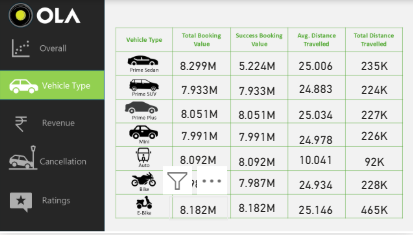

The page's visual inventory and layout, read from the dashboard file:
{"tool":"powerbi","page":{"name":"Vehicle Type","canvas":[1280,720],"ordinal":1},"visuals":[{"type":"actionButton","box":[0,104.4,324,93.7],"z":0},{"type":"actionButton","box":[1.2,347.5,324.5,92.9],"z":1000},{"type":"actionButton","box":[0,574.3,324.5,92.9],"z":2000},{"type":"actionButton","box":[0,450,324.5,92.9],"z":3000},{"type":"card","fields":{"Values":["Sum(Bookings-100000-Rows (1).Booking_Value)"]},"box":[526,160,180,76],"z":4000},{"type":"card","fields":{"Values":["Sum(Bookings-100000-Rows (1).Booking_Value)"]},"box":[526.7,236.7,180,76.7],"z":5000},{"type":"card","fields":{"Values":["Sum(Bookings-100000-Rows (1).Booking_Value)"]},"box":[526.7,306.7,180,76.7],"z":6000},{"type":"card","fields":{"Values":["Sum(Bookings-100000-Rows (1).Booking_Value)"]},"box":[526.7,383.3,180,66.7],"z":7000},{"type":"card","fields":{"Values":["Sum(Bookings-100000-Rows (1).Booking_Value)"]},"box":[526,450,180,76],"z":8000},{"type":"card","fields":{"Values":["Sum(Bookings-100000-Rows (1).Booking_Value)"]},"box":[526,526,180,78],"z":9000},{"type":"card","fields":{"Values":["Sum(Bookings-100000-Rows (1).Booking_Value)"]},"box":[526,604,180,76],"z":10000},{"type":"card","fields":{"Values":["Sum(Bookings-100000-Rows (1).Booking_Value)"]},"box":[706,160,180,76],"z":11000},{"type":"card","fields":{"Values":["Sum(Bookings-100000-Rows (1).Booking_Value)"]},"box":[706,238,180,76],"z":12000},{"type":"card","fields":{"Values":["Sum(Bookings-100000-Rows (1).Booking_Value)"]},"box":[706,312,180,76],"z":13000},{"type":"card","fields":{"Values":["Sum(Bookings-100000-Rows (1).Booking_Value)"]},"box":[706,382,180,76],"z":14000},{"type":"card","fields":{"Values":["Sum(Bookings-100000-Rows (1).Booking_Value)"]},"box":[706,458,180,76],"z":15000},{"type":"card","fields":{"Values":["Sum(Bookings-100000-Rows (1).Booking_Value)"]},"box":[706,526,180,76],"z":16000},{"type":"card","fields":{"Values":["Sum(Bookings-100000-Rows (1).Booking_Value)"]},"box":[706,602,180,76],"z":17000},{"type":"card","fields":{"Values":["Avg(Bookings-100000-Rows (1).Ride_Distance)"]},"box":[886.7,605,180,76.7],"z":18000},{"type":"card","fields":{"Values":["Avg(Bookings-100000-Rows (1).Ride_Distance)"]},"box":[886.7,528.3,180,76.7],"z":19000},{"type":"card","fields":{"Values":["Avg(Bookings-100000-Rows (1).Ride_Distance)"]},"box":[886.7,450,180,76.7],"z":20000},{"type":"card","fields":{"Values":["Avg(Bookings-100000-Rows (1).Ride_Distance)"]},"box":[886.7,388.3,180,76.7],"z":21000},{"type":"card","fields":{"Values":["Avg(Bookings-100000-Rows (1).Ride_Distance)"]},"box":[886.7,311.7,180,76.7],"z":22000},{"type":"card","fields":{"Values":["Avg(Bookings-100000-Rows (1).Ride_Distance)"]},"box":[886.7,230,180,76.7],"z":23000},{"type":"card","fields":{"Values":["Avg(Bookings-100000-Rows (1).Ride_Distance)"]},"box":[886.7,161.7,180,76.7],"z":24000},{"type":"card","fields":{"Values":["Sum(Bookings-100000-Rows (1).Ride_Distance)"]},"box":[1066.7,605,180,76.7],"z":25000},{"type":"card","fields":{"Values":["Sum(Bookings-100000-Rows (1).Ride_Distance)"]},"box":[1066.7,526.7,180,76.7],"z":26000},{"type":"card","fields":{"Values":["Sum(Bookings-100000-Rows (1).Ride_Distance)"]},"box":[1066.7,458.3,180,76.7],"z":27000},{"type":"card","fields":{"Values":["Sum(Bookings-100000-Rows (1).Ride_Distance)"]},"box":[1066.7,378.3,180,76.7],"z":28000},{"type":"card","fields":{"Values":["Sum(Bookings-100000-Rows (1).Ride_Distance)"]},"box":[1066.7,311.7,180,76.7],"z":29000},{"type":"card","fields":{"Values":["Sum(Bookings-100000-Rows (1).Ride_Distance)"]},"box":[1066.7,236.7,180,76.7],"z":30000},{"type":"card","fields":{"Values":["Sum(Bookings-100000-Rows (1).Ride_Distance)"]},"box":[1066.7,160,180,76.7],"z":31000}]}

Visuals, with their boxes on the page's 1280x720 design canvas (x1, y1, x2, y2). These are canvas units, not pixel positions in the 413x235 screenshot, which may show the page scaled, cropped or inside an application window:
actionButton: x1=0, y1=104, x2=324, y2=198
actionButton: x1=1, y1=348, x2=326, y2=440
actionButton: x1=0, y1=574, x2=324, y2=667
actionButton: x1=0, y1=450, x2=324, y2=543
card - Sum(Bookings-100000-Rows (1).Booking_Value): x1=526, y1=160, x2=706, y2=236
card - Sum(Bookings-100000-Rows (1).Booking_Value): x1=527, y1=237, x2=707, y2=313
card - Sum(Bookings-100000-Rows (1).Booking_Value): x1=527, y1=307, x2=707, y2=383
card - Sum(Bookings-100000-Rows (1).Booking_Value): x1=527, y1=383, x2=707, y2=450
card - Sum(Bookings-100000-Rows (1).Booking_Value): x1=526, y1=450, x2=706, y2=526
card - Sum(Bookings-100000-Rows (1).Booking_Value): x1=526, y1=526, x2=706, y2=604
card - Sum(Bookings-100000-Rows (1).Booking_Value): x1=526, y1=604, x2=706, y2=680
card - Sum(Bookings-100000-Rows (1).Booking_Value): x1=706, y1=160, x2=886, y2=236
card - Sum(Bookings-100000-Rows (1).Booking_Value): x1=706, y1=238, x2=886, y2=314
card - Sum(Bookings-100000-Rows (1).Booking_Value): x1=706, y1=312, x2=886, y2=388
card - Sum(Bookings-100000-Rows (1).Booking_Value): x1=706, y1=382, x2=886, y2=458
card - Sum(Bookings-100000-Rows (1).Booking_Value): x1=706, y1=458, x2=886, y2=534
card - Sum(Bookings-100000-Rows (1).Booking_Value): x1=706, y1=526, x2=886, y2=602
card - Sum(Bookings-100000-Rows (1).Booking_Value): x1=706, y1=602, x2=886, y2=678
card - Avg(Bookings-100000-Rows (1).Ride_Distance): x1=887, y1=605, x2=1067, y2=682
card - Avg(Bookings-100000-Rows (1).Ride_Distance): x1=887, y1=528, x2=1067, y2=605
card - Avg(Bookings-100000-Rows (1).Ride_Distance): x1=887, y1=450, x2=1067, y2=527
card - Avg(Bookings-100000-Rows (1).Ride_Distance): x1=887, y1=388, x2=1067, y2=465
card - Avg(Bookings-100000-Rows (1).Ride_Distance): x1=887, y1=312, x2=1067, y2=388
card - Avg(Bookings-100000-Rows (1).Ride_Distance): x1=887, y1=230, x2=1067, y2=307
card - Avg(Bookings-100000-Rows (1).Ride_Distance): x1=887, y1=162, x2=1067, y2=238
card - Sum(Bookings-100000-Rows (1).Ride_Distance): x1=1067, y1=605, x2=1247, y2=682
card - Sum(Bookings-100000-Rows (1).Ride_Distance): x1=1067, y1=527, x2=1247, y2=603
card - Sum(Bookings-100000-Rows (1).Ride_Distance): x1=1067, y1=458, x2=1247, y2=535
card - Sum(Bookings-100000-Rows (1).Ride_Distance): x1=1067, y1=378, x2=1247, y2=455
card - Sum(Bookings-100000-Rows (1).Ride_Distance): x1=1067, y1=312, x2=1247, y2=388
card - Sum(Bookings-100000-Rows (1).Ride_Distance): x1=1067, y1=237, x2=1247, y2=313
card - Sum(Bookings-100000-Rows (1).Ride_Distance): x1=1067, y1=160, x2=1247, y2=237
